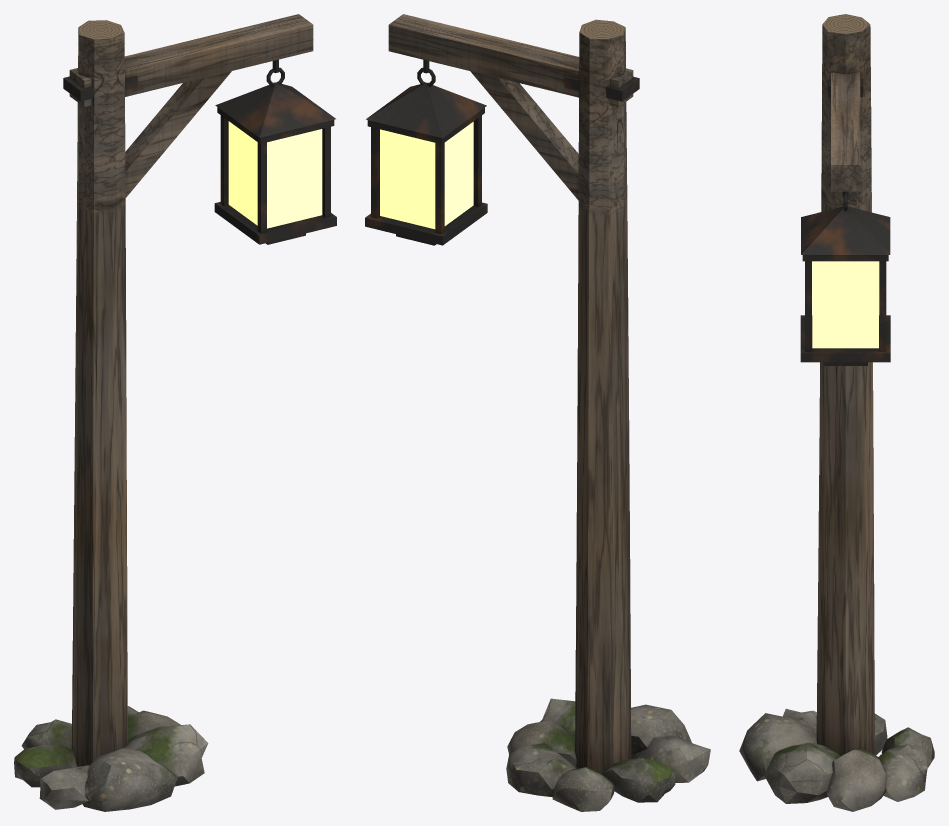
File: fm_lantern_post.glb
3 views of the same model, side by side, from view 1: azimuth 30°, elevation 25°; view 2: azimuth 150°, elevation 25°; view 3: azimuth 270°, elevation 25° (orthographic).
Parts seen in each view (by area): view 1: fm_lantern_post; view 2: fm_lantern_post; view 3: fm_lantern_post.
Part boxes in pixels (left/top/right/bottom): fm_lantern_post: left=14, top=14, right=336, bottom=811; fm_lantern_post: left=365, top=14, right=710, bottom=811; fm_lantern_post: left=739, top=14, right=934, bottom=811.
Size of the model in its own units: 0.8748 by 2.11 by 0.5003.
3 materials, 2 textured.
